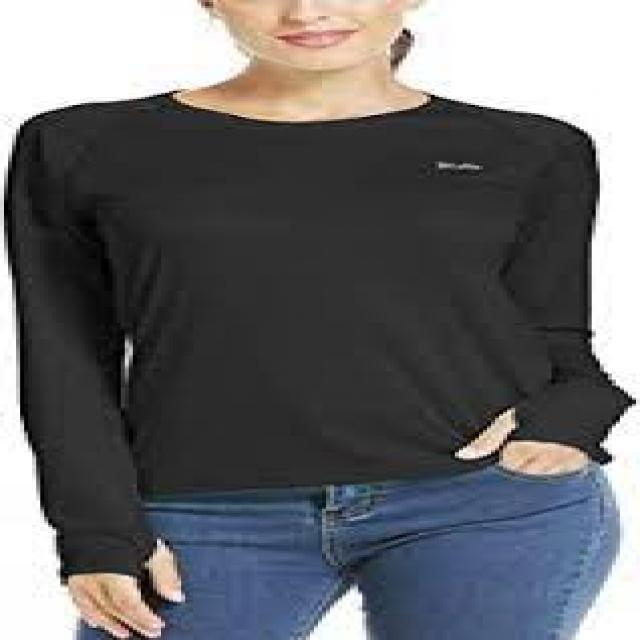plain: (6, 91, 630, 482)
